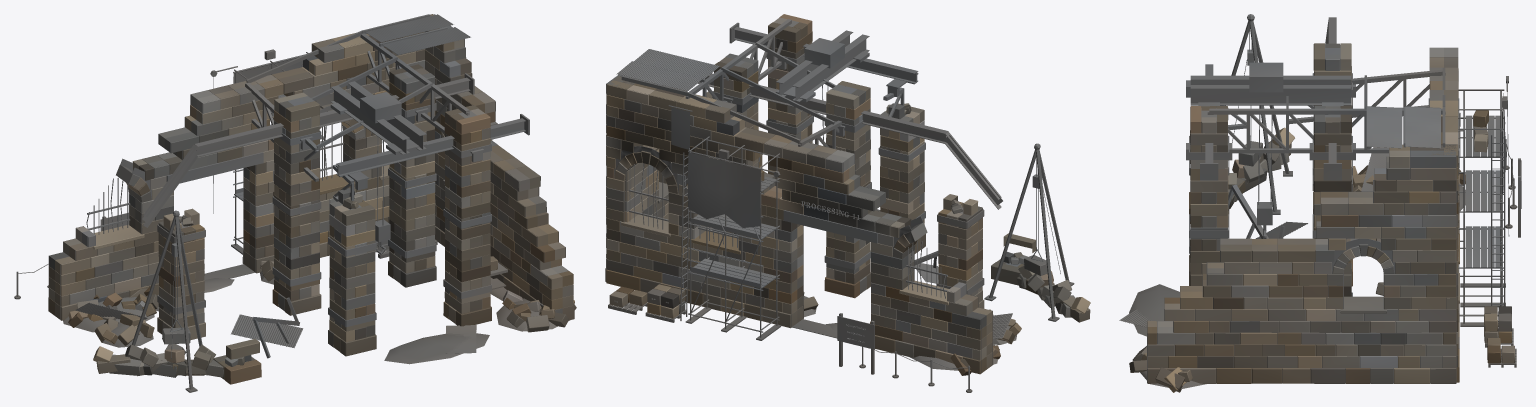
The model's file is Processing11_LOD1.glb.
3 views of the same model, side by side, from view 1: azimuth 30°, elevation 25°; view 2: azimuth 150°, elevation 25°; view 3: azimuth 270°, elevation 25° (orthographic). The views are drawn at different scales.
Visible parts, largest first — view 1: Processing11_Masonry_LOD1, Processing11_Metal_LOD1, Processing11_Rubble_LOD1, Processing11_Roof_LOD1, Processing11_Sand_LOD1, Processing11_Canvas_LOD1; view 2: Processing11_Masonry_LOD1, Processing11_Metal_LOD1, Processing11_Roof_LOD1, Processing11_Rubble_LOD1, Processing11_Canvas_LOD1, Processing11_Sand_LOD1; view 3: Processing11_Masonry_LOD1, Processing11_Metal_LOD1, Processing11_Roof_LOD1, Processing11_Rubble_LOD1, Processing11_Sand_LOD1, Processing11_Hardware_LOD1.
Boxes of the visible parts, left/top/right/bottom form: Processing11_Masonry_LOD1: left=48, top=14, right=574, bottom=384; Processing11_Metal_LOD1: left=14, top=14, right=529, bottom=392; Processing11_Rubble_LOD1: left=68, top=193, right=576, bottom=377; Processing11_Roof_LOD1: left=75, top=14, right=507, bottom=353; Processing11_Sand_LOD1: left=63, top=249, right=569, bottom=364; Processing11_Canvas_LOD1: left=233, top=54, right=305, bottom=116; Processing11_Masonry_LOD1: left=605, top=14, right=1036, bottom=374; Processing11_Metal_LOD1: left=621, top=19, right=1074, bottom=392; Processing11_Roof_LOD1: left=608, top=49, right=1012, bottom=374; Processing11_Rubble_LOD1: left=609, top=103, right=1090, bottom=375; Processing11_Canvas_LOD1: left=671, top=107, right=760, bottom=227; Processing11_Sand_LOD1: left=707, top=209, right=1017, bottom=370; Processing11_Masonry_LOD1: left=1147, top=43, right=1459, bottom=383; Processing11_Metal_LOD1: left=1186, top=14, right=1517, bottom=323; Processing11_Roof_LOD1: left=1119, top=106, right=1521, bottom=367; Processing11_Rubble_LOD1: left=1129, top=110, right=1514, bottom=392; Processing11_Sand_LOD1: left=1129, top=174, right=1465, bottom=389; Processing11_Hardware_LOD1: left=1492, top=76, right=1508, bottom=321.
Bounding box in the file's own units: 18 × 8.68 × 13.03.
